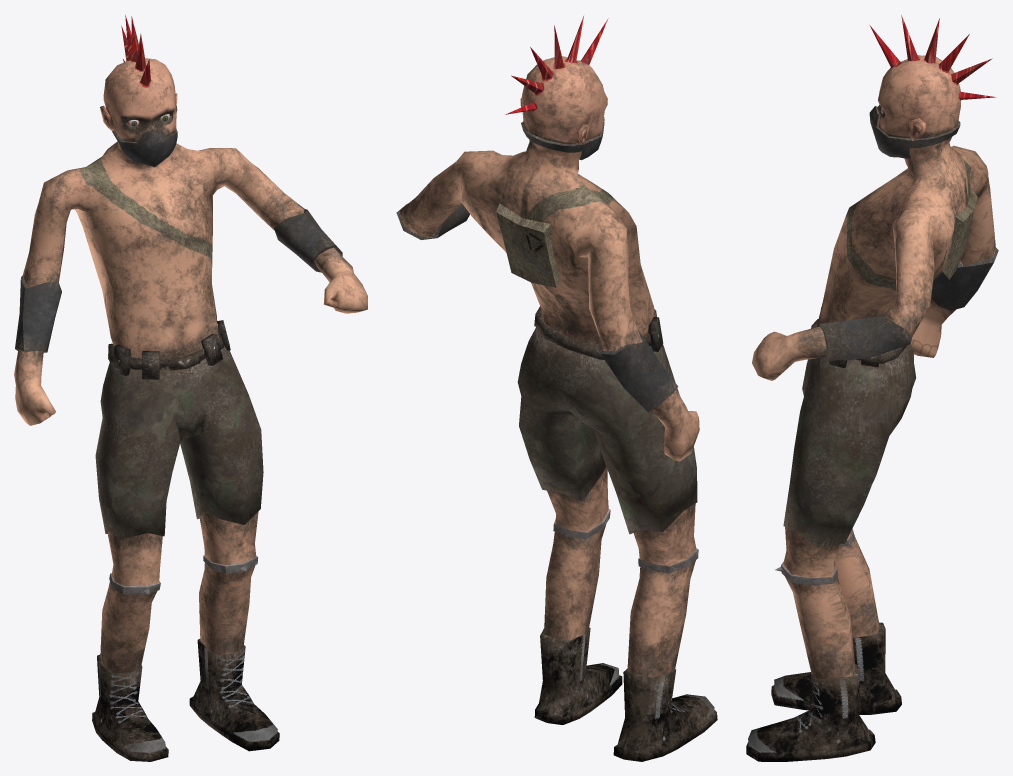
The model's file is Anim_recibirdanyo_1_npc2.0024.obj.
3 renders of one model, left to right at view 1: azimuth 30°, elevation 25°; view 2: azimuth 150°, elevation 25°; view 3: azimuth 270°, elevation 25°, orthographic. The views are drawn at different scales.
Visible parts, largest first — view 1: polySurface1; view 2: polySurface1; view 3: polySurface1.
Part boxes in pixels (box(x1,y1,x2,y2)): polySurface1: box(14, 15, 367, 761); polySurface1: box(396, 16, 717, 761); polySurface1: box(746, 15, 998, 761).
Size of the model in its own units: 4.25 by 9.87 by 3.16.
